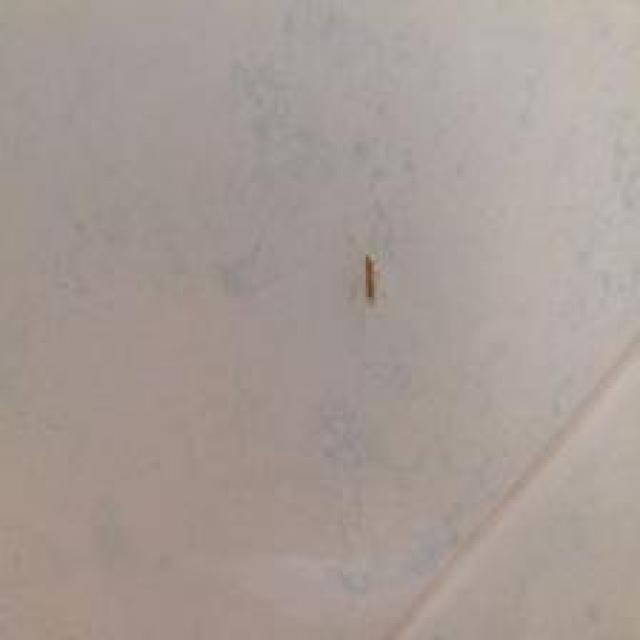Culex: (363, 253, 380, 298)
